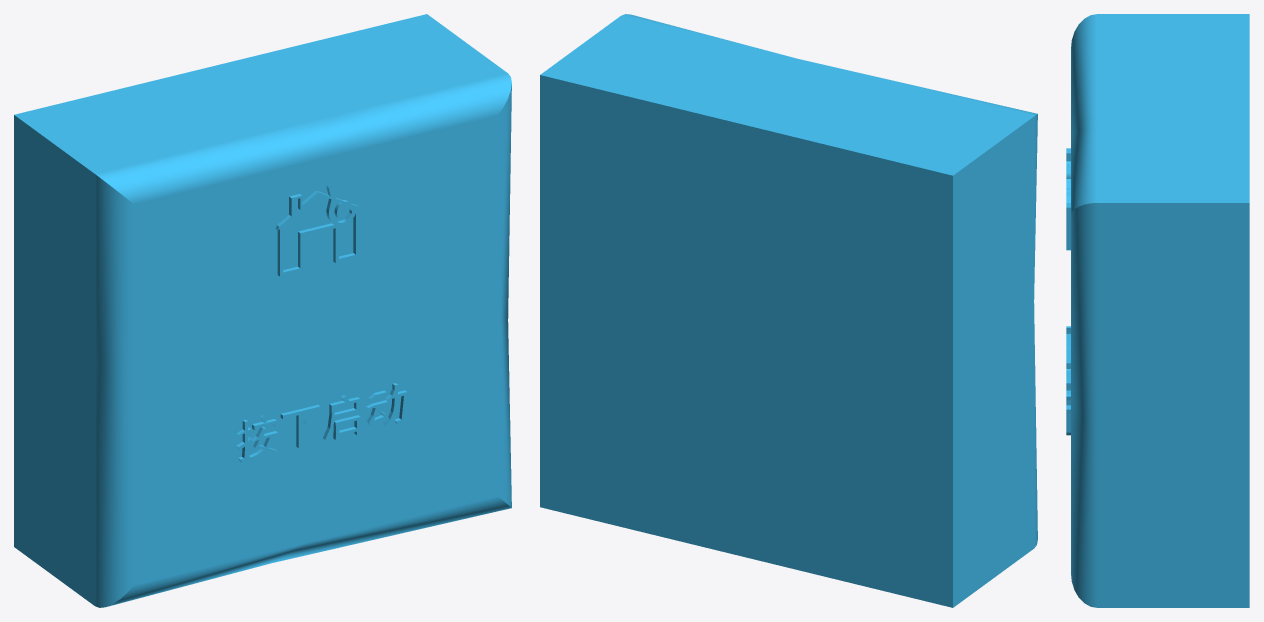
3 renders of one model, left to right at view 1: azimuth 30°, elevation 25°; view 2: azimuth 150°, elevation 25°; view 3: azimuth 270°, elevation 25°, orthographic. The views are drawn at different scales.
Size of the model in its own units: 110 by 110 by 45.1.
